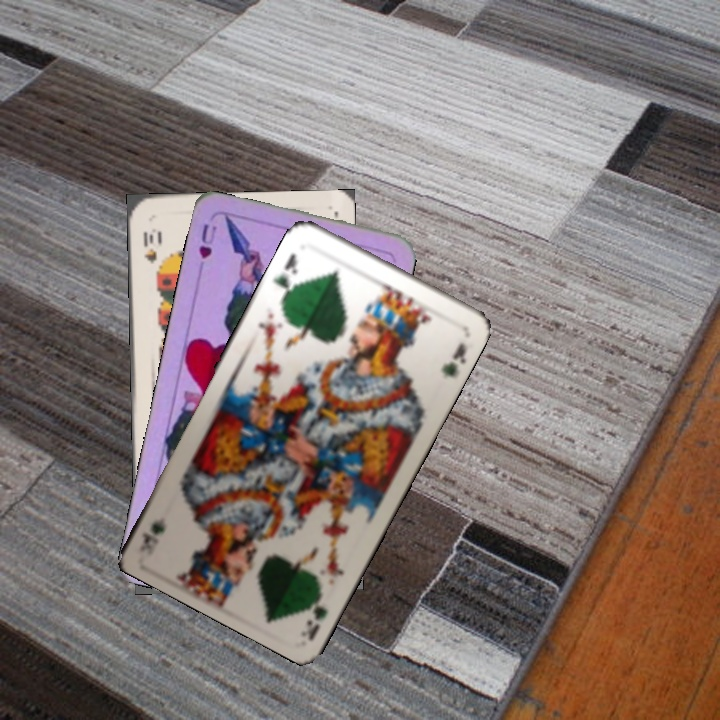GK: (298, 580, 330, 642), (269, 249, 300, 299)
HU: (194, 220, 220, 274)
S10: (139, 228, 160, 265)
